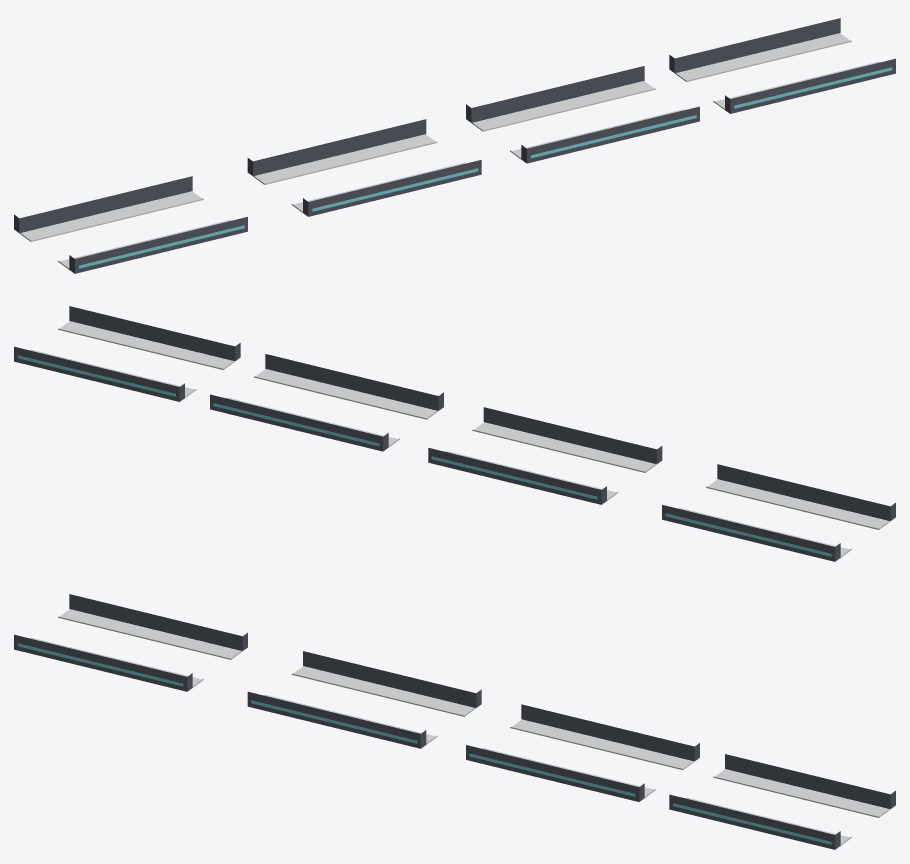
File: ext_maglev_magnet_module_04.glb
3 views of the same model, one above another, from view 1: azimuth 30°, elevation 25°; view 2: azimuth 150°, elevation 25°; view 3: azimuth 330°, elevation 25° (orthographic).
Parts seen in each view (by area): view 1: Magnet_Arms, Lev_Magnets, Lev_Glow; view 2: Magnet_Arms, Lev_Magnets, Lev_Glow; view 3: Magnet_Arms, Lev_Magnets, Lev_Glow.
Boxes of the visible parts, bbox=[...] form: Magnet_Arms: bbox=[14, 18, 895, 273]; Lev_Magnets: bbox=[19, 33, 879, 269]; Lev_Glow: bbox=[78, 67, 892, 268]; Magnet_Arms: bbox=[14, 306, 895, 561]; Lev_Magnets: bbox=[30, 321, 890, 557]; Lev_Glow: bbox=[17, 355, 831, 556]; Magnet_Arms: bbox=[14, 594, 895, 849]; Lev_Magnets: bbox=[30, 609, 890, 845]; Lev_Glow: bbox=[17, 643, 831, 844].
Size of the model in its own units: 10.9 by 0.194 by 1.41.
